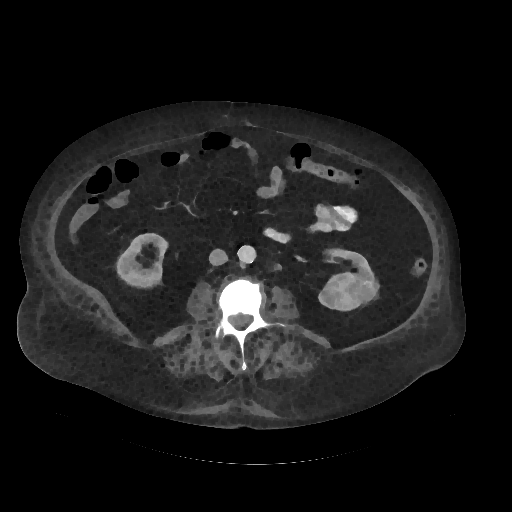Lesion: (346, 273, 382, 306)
